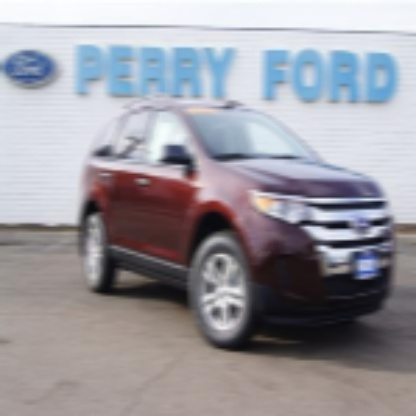Vehicle: (78, 88, 396, 351)
